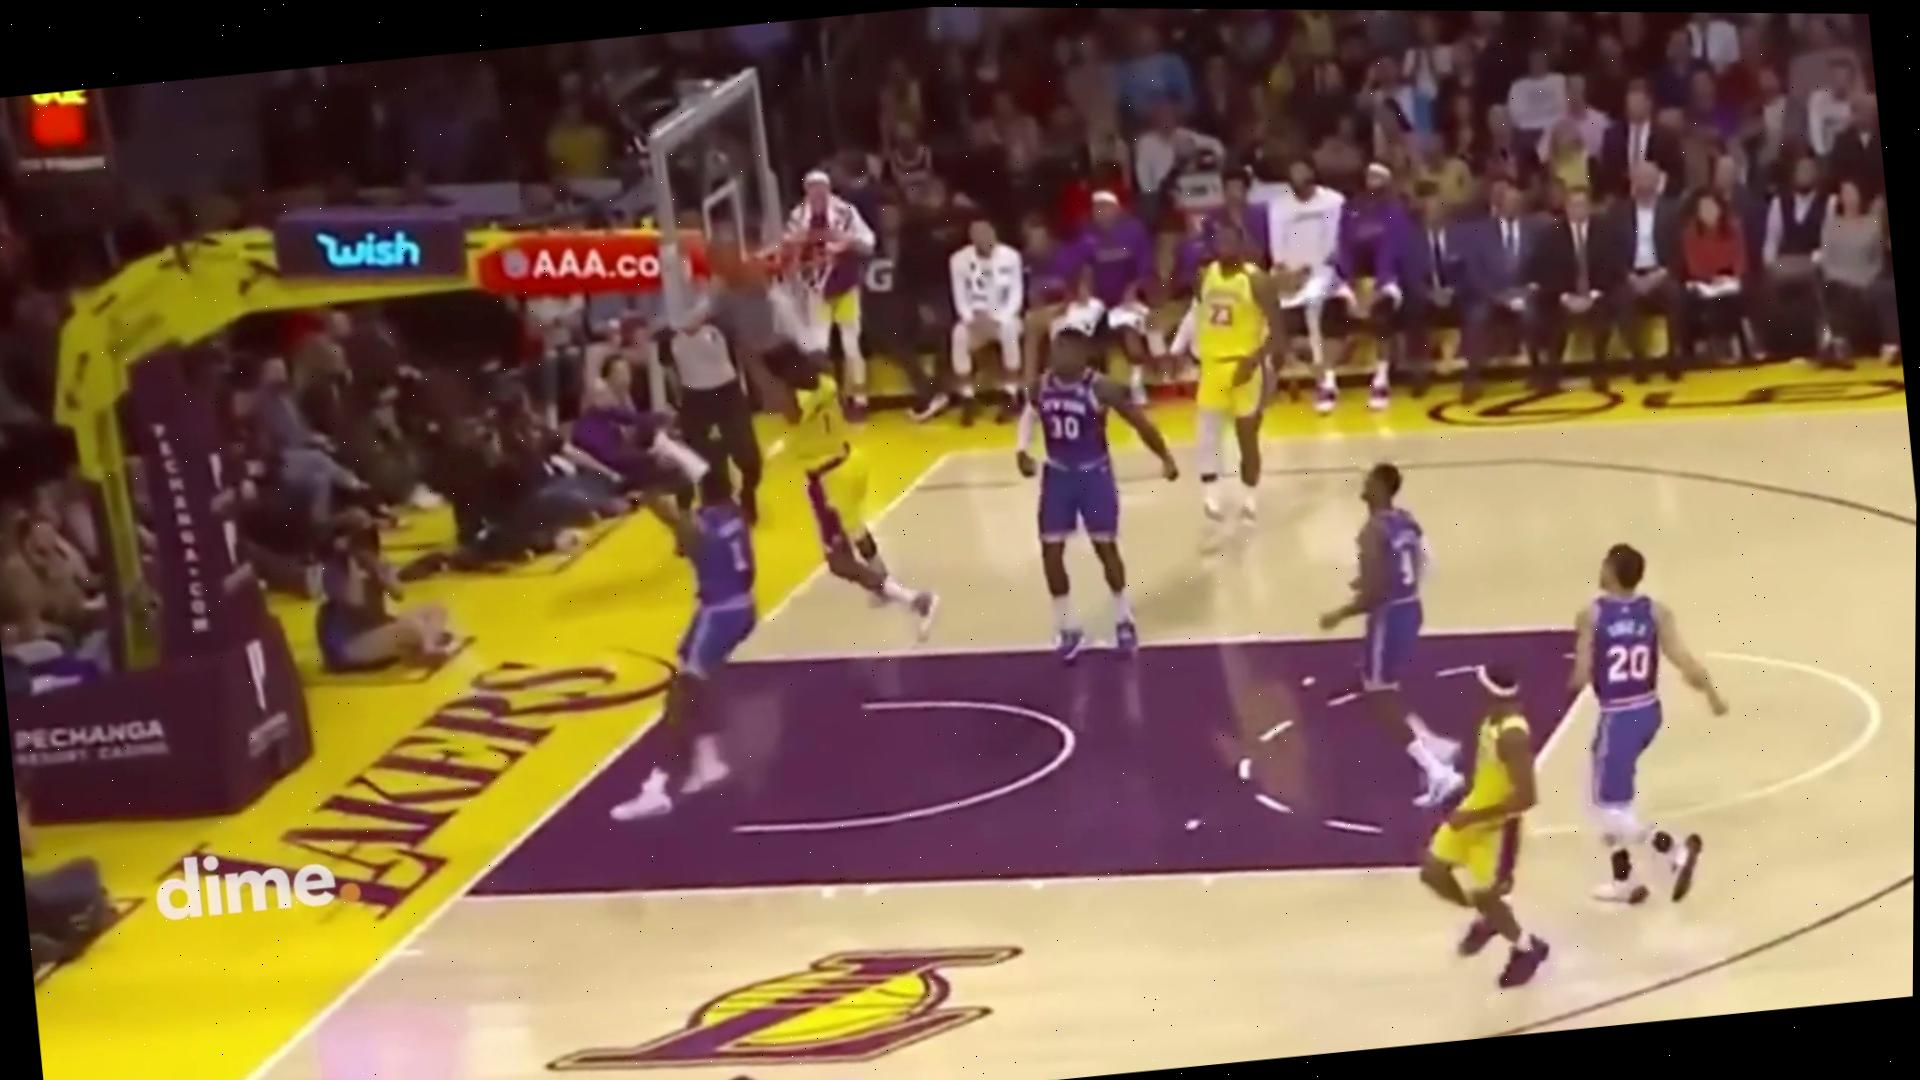no_foul: (603, 316, 982, 808)
